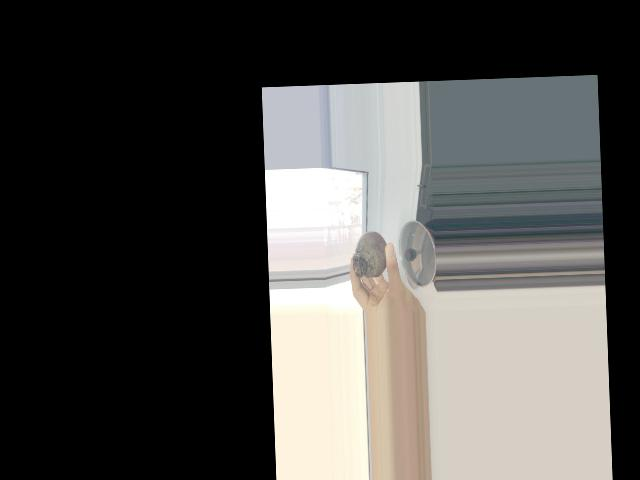beet: (351, 230, 388, 291)
